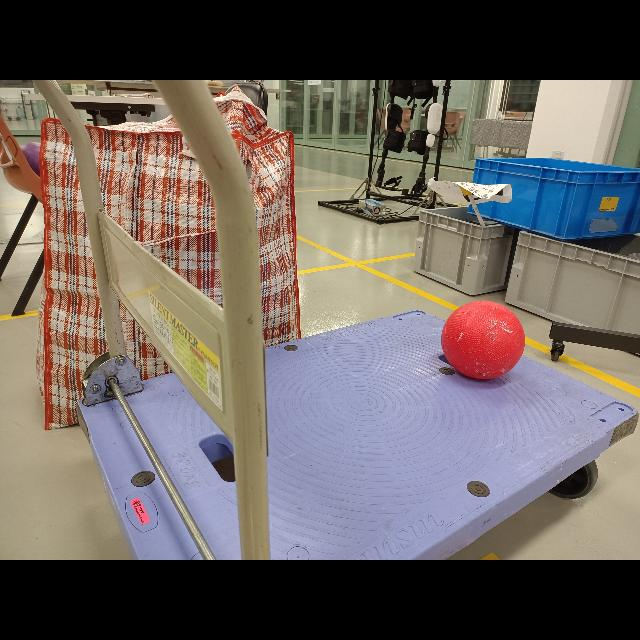P: (18, 142, 44, 178)
R: (441, 300, 525, 380)
